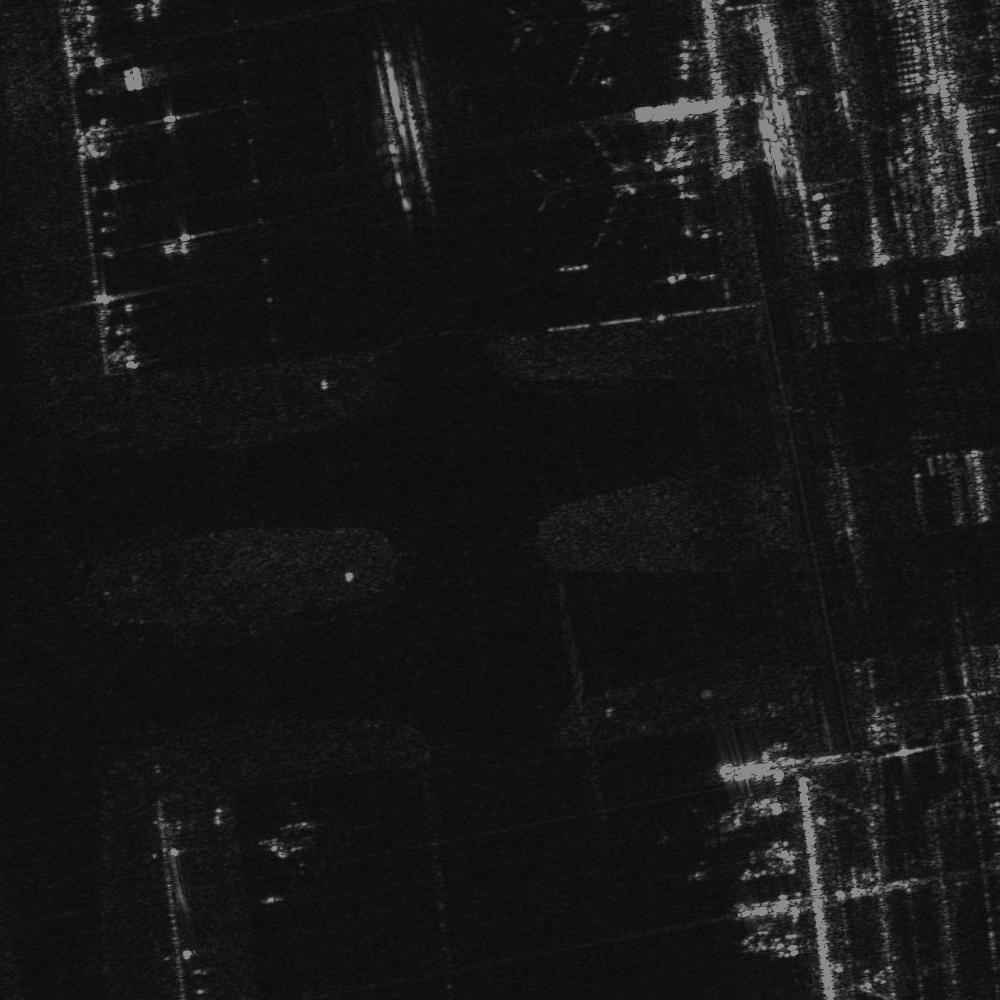A330: (525, 122, 671, 250)
